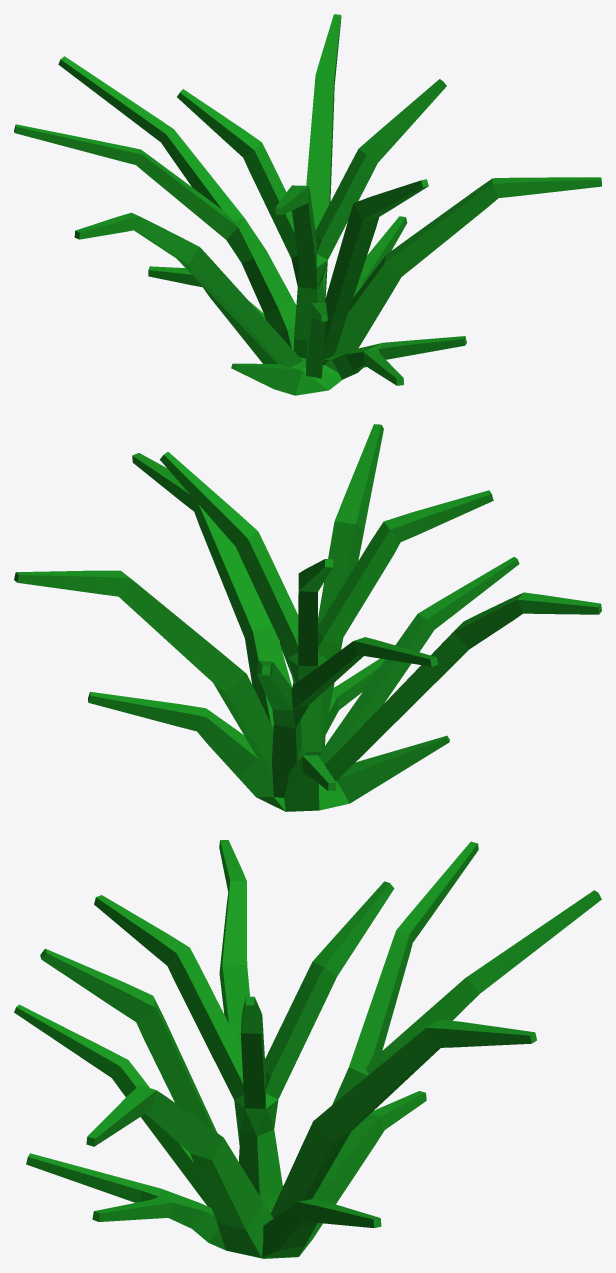
The model's file is grass.fbx.
3 renders of one model, top to bottom at view 1: azimuth 30°, elevation 25°; view 2: azimuth 150°, elevation 25°; view 3: azimuth 270°, elevation 25°, orthographic. The views are drawn at different scales.
Parts seen in each view (by area): view 1: Cube; view 2: Cube; view 3: Cube.
Part boxes in pixels (x1,y1,x2,y2): Cube: (14,14,601,395); Cube: (14,424,601,811); Cube: (14,840,601,1258).
Size of the model in its own units: 118 by 66.79 by 106.
